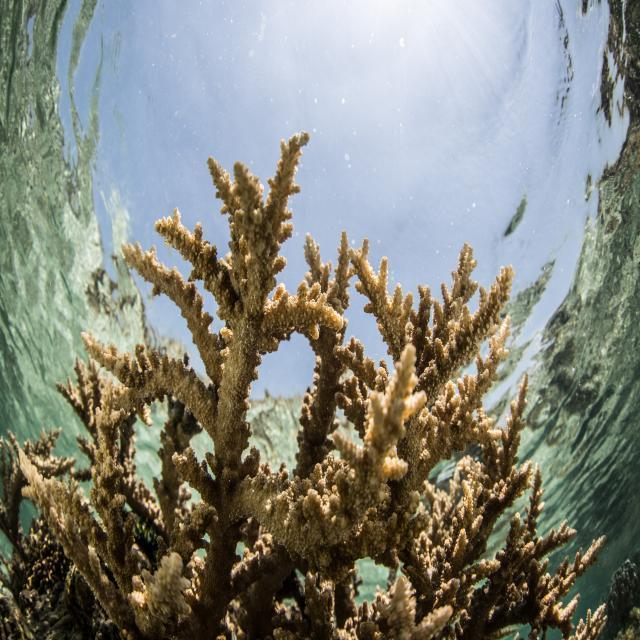Healthy: (7, 121, 612, 640)
